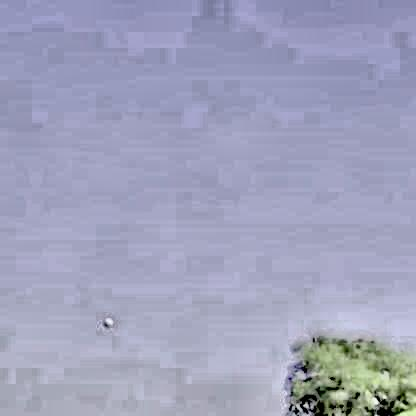golfball: (99, 314, 111, 325)
